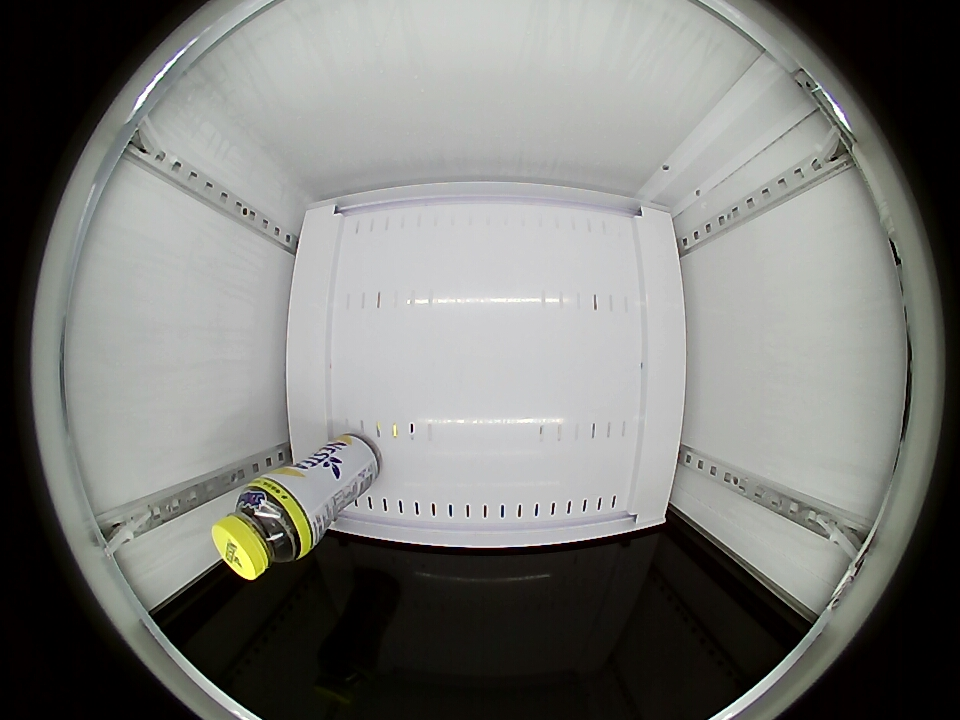chacui: (212, 477, 313, 579)
